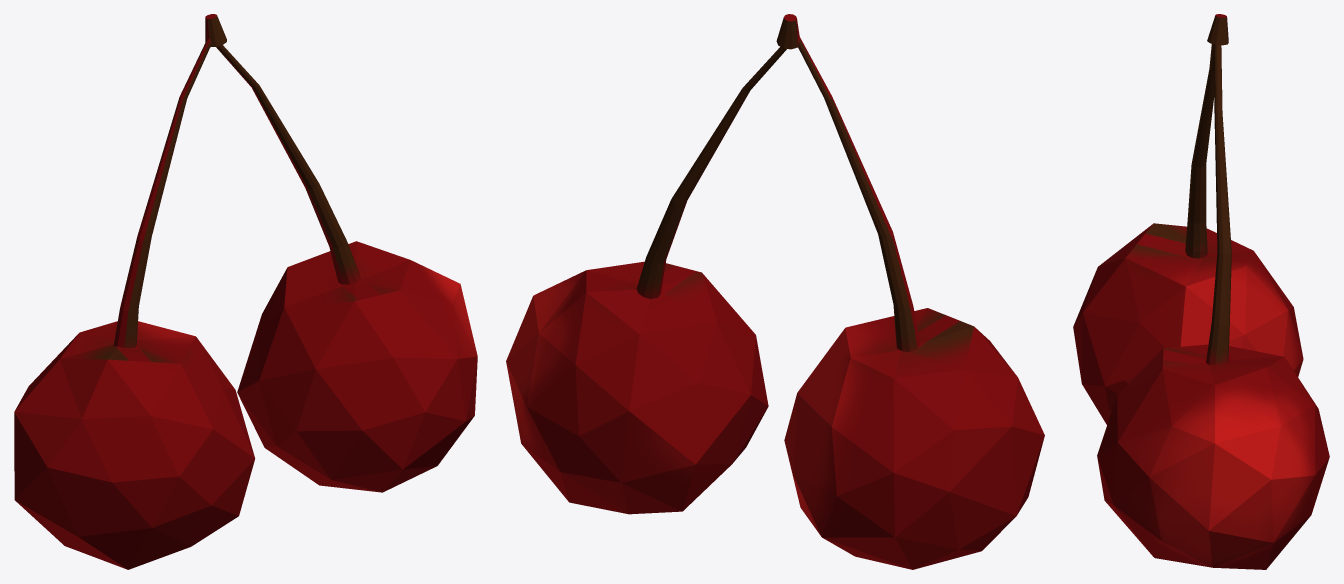
The model's file is Cherry.glb.
3 renders of one model, left to right at view 1: azimuth 30°, elevation 25°; view 2: azimuth 150°, elevation 25°; view 3: azimuth 270°, elevation 25°, orthographic. The views are drawn at different scales.
Visible parts, largest first — view 1: Cylinder; view 2: Cylinder; view 3: Cylinder.
Boxes of the visible parts, x1=… form: Cylinder: x1=14, y1=14, x2=477, y2=569; Cylinder: x1=506, y1=14, x2=1044, y2=569; Cylinder: x1=1073, y1=14, x2=1329, y2=569.
Bounding box in the file's own units: 4.37 × 4.45 × 2.18.
Materials: 1 (1 with a texture image).
